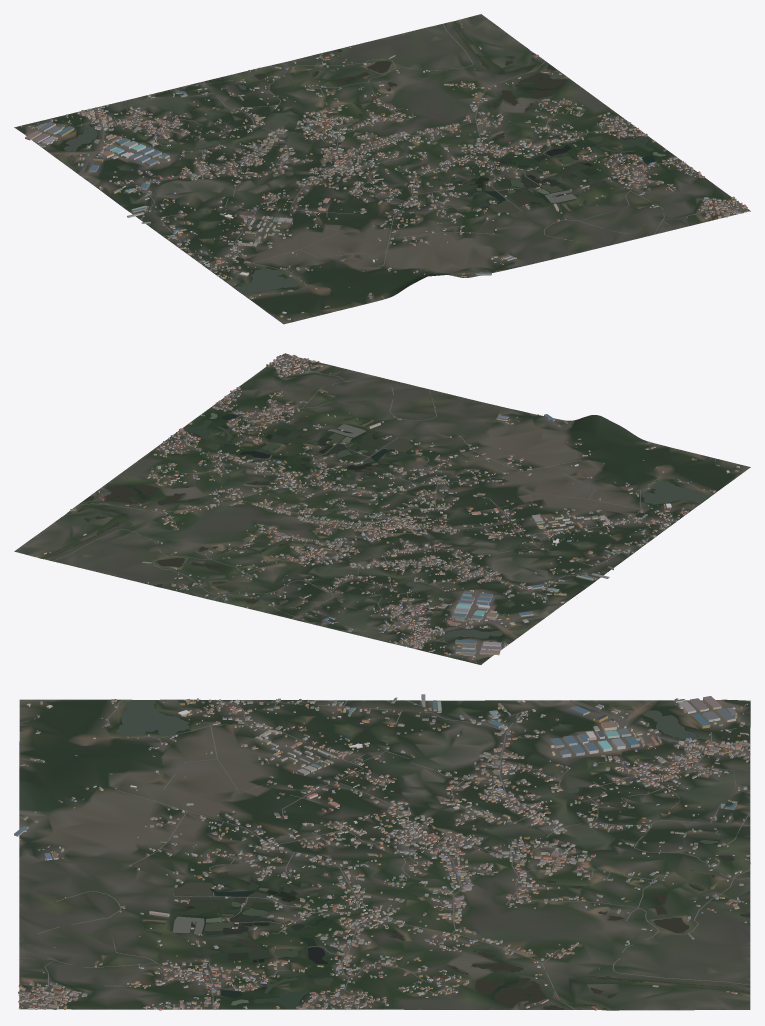
The picture shows the model from 3 angles, top to bottom: view 1: azimuth 30°, elevation 25°; view 2: azimuth 150°, elevation 25°; view 3: azimuth 270°, elevation 25°; orthographic projection. The views are drawn at different scales.
Parts seen in each view (by area): view 1: ground, buildings, water, roads; view 2: ground, buildings, water, roads; view 3: ground, buildings, water, roads.
Part boxes in pixels (left/top/right/bottom): ground: left=14, top=14, right=750, bottom=324; buildings: left=20, top=23, right=749, bottom=320; water: left=63, top=21, right=665, bottom=294; roads: left=21, top=24, right=742, bottom=315; ground: left=14, top=354, right=750, bottom=664; buildings: left=43, top=353, right=739, bottom=662; water: left=42, top=413, right=707, bottom=644; roads: left=52, top=355, right=716, bottom=661; ground: left=19, top=699, right=750, bottom=1010; buildings: left=14, top=694, right=750, bottom=1010; water: left=116, top=700, right=749, bottom=1009; roads: left=19, top=699, right=750, bottom=1009.
Bounding box in the file's own units: 2853 × 95.76 × 2827.
